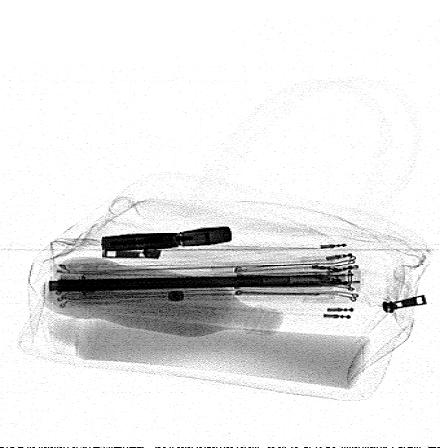Lighter: (102, 226, 234, 251)
